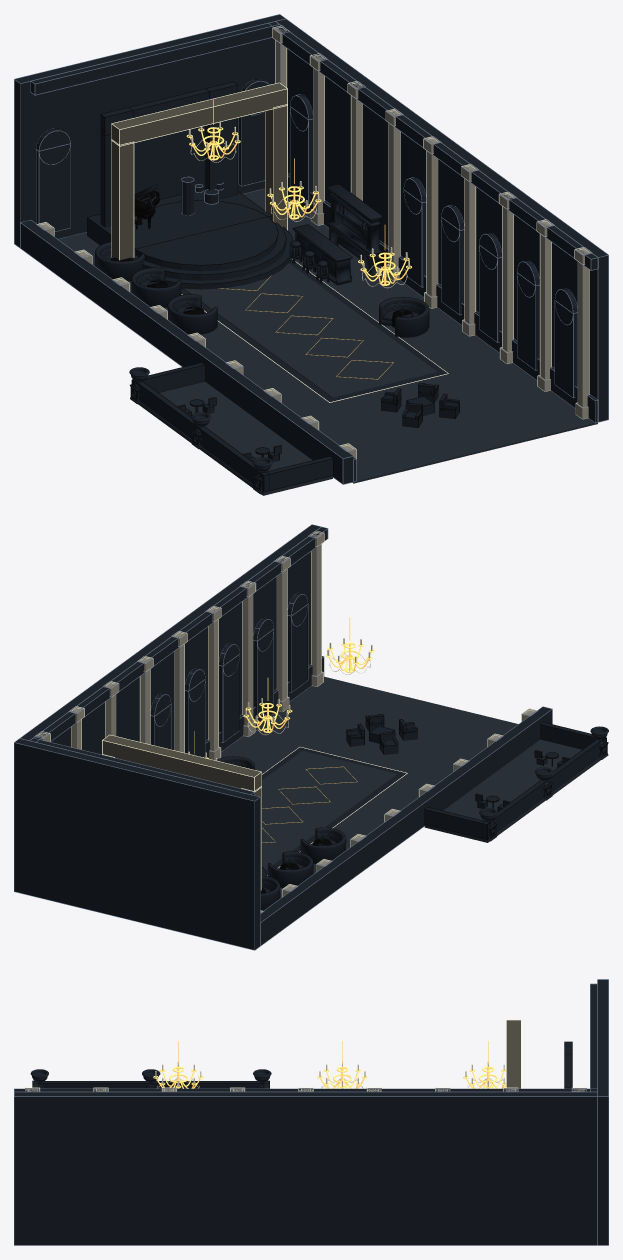
The picture shows the model from 3 angles, top to bottom: view 1: azimuth 30°, elevation 25°; view 2: azimuth 150°, elevation 25°; view 3: azimuth 270°, elevation 25°; orthographic projection. The views are drawn at different scales.
Visible parts, largest first — view 1: 地面, 远端墙, 右墙, 舞池, 描线_focus_晚宴_暗, 左墙_矮, 描线_focus_晚宴, 乐池台阶_3, 吧台, 露台地面, 右墙_檐口, 乐池台 (+37 smaller); view 2: 远端墙, 地面, 右墙, 左墙_矮, 描线_focus_晚宴_暗, 舞池, 露台地面, 右墙_檐口, 台口_楣, 描线_focus_晚宴_CDA54D, 露台栏杆_外, 右窗_1 (+18 smaller); view 3: 右墙, 描线_focus_晚宴_暗, 远端墙, 右墙_檐口, 露台栏杆_外, 台口_楣, 远端墙_檐口, 描线_focus_晚宴, 描线_focus_晚宴_CDA54D.
Part boxes in pixels (x1,y1,x2,y2): 地面: (58, 189, 597, 483); 远端墙: (14, 14, 284, 247); 右墙: (276, 19, 608, 421); 舞池: (184, 263, 437, 397); 描线_focus_晚宴_暗: (14, 14, 608, 484); 左墙_矮: (20, 220, 353, 483); 描线_focus_晚宴: (87, 81, 459, 492); 乐池台阶_3: (134, 201, 278, 271); 吧台: (290, 184, 382, 284); 露台地面: (138, 381, 332, 495); 右墙_檐口: (269, 22, 597, 269); 乐池台: (87, 189, 271, 255); 远端墙: (14, 739, 260, 949); 地面: (221, 676, 518, 898); 右墙: (21, 525, 320, 754); 左墙_矮: (260, 707, 552, 945); 描线_focus_晚宴_暗: (14, 524, 552, 950); 舞池: (262, 751, 397, 870); 露台地面: (424, 739, 600, 842); 右墙_檐口: (30, 527, 327, 741); 台口_楣: (102, 735, 261, 791); 描线_focus_晚宴_CDA54D: (38, 531, 536, 911); 露台栏杆_外: (482, 739, 602, 839); 右窗_1: (287, 593, 307, 691); 右墙: (14, 1092, 597, 1245); 描线_focus_晚宴_暗: (14, 979, 608, 1245); 远端墙: (597, 979, 608, 1245); 右墙_檐口: (14, 1089, 597, 1091); 露台栏杆_外: (32, 1081, 269, 1088); 台口_楣: (506, 1020, 520, 1088); 远端墙_檐口: (590, 984, 597, 1091); 描线_focus_晚宴: (32, 1041, 572, 1088); 描线_focus_晚宴_CDA54D: (25, 1019, 586, 1091).
Bounding box in the file's own units: 1953 × 912 × 3264.
